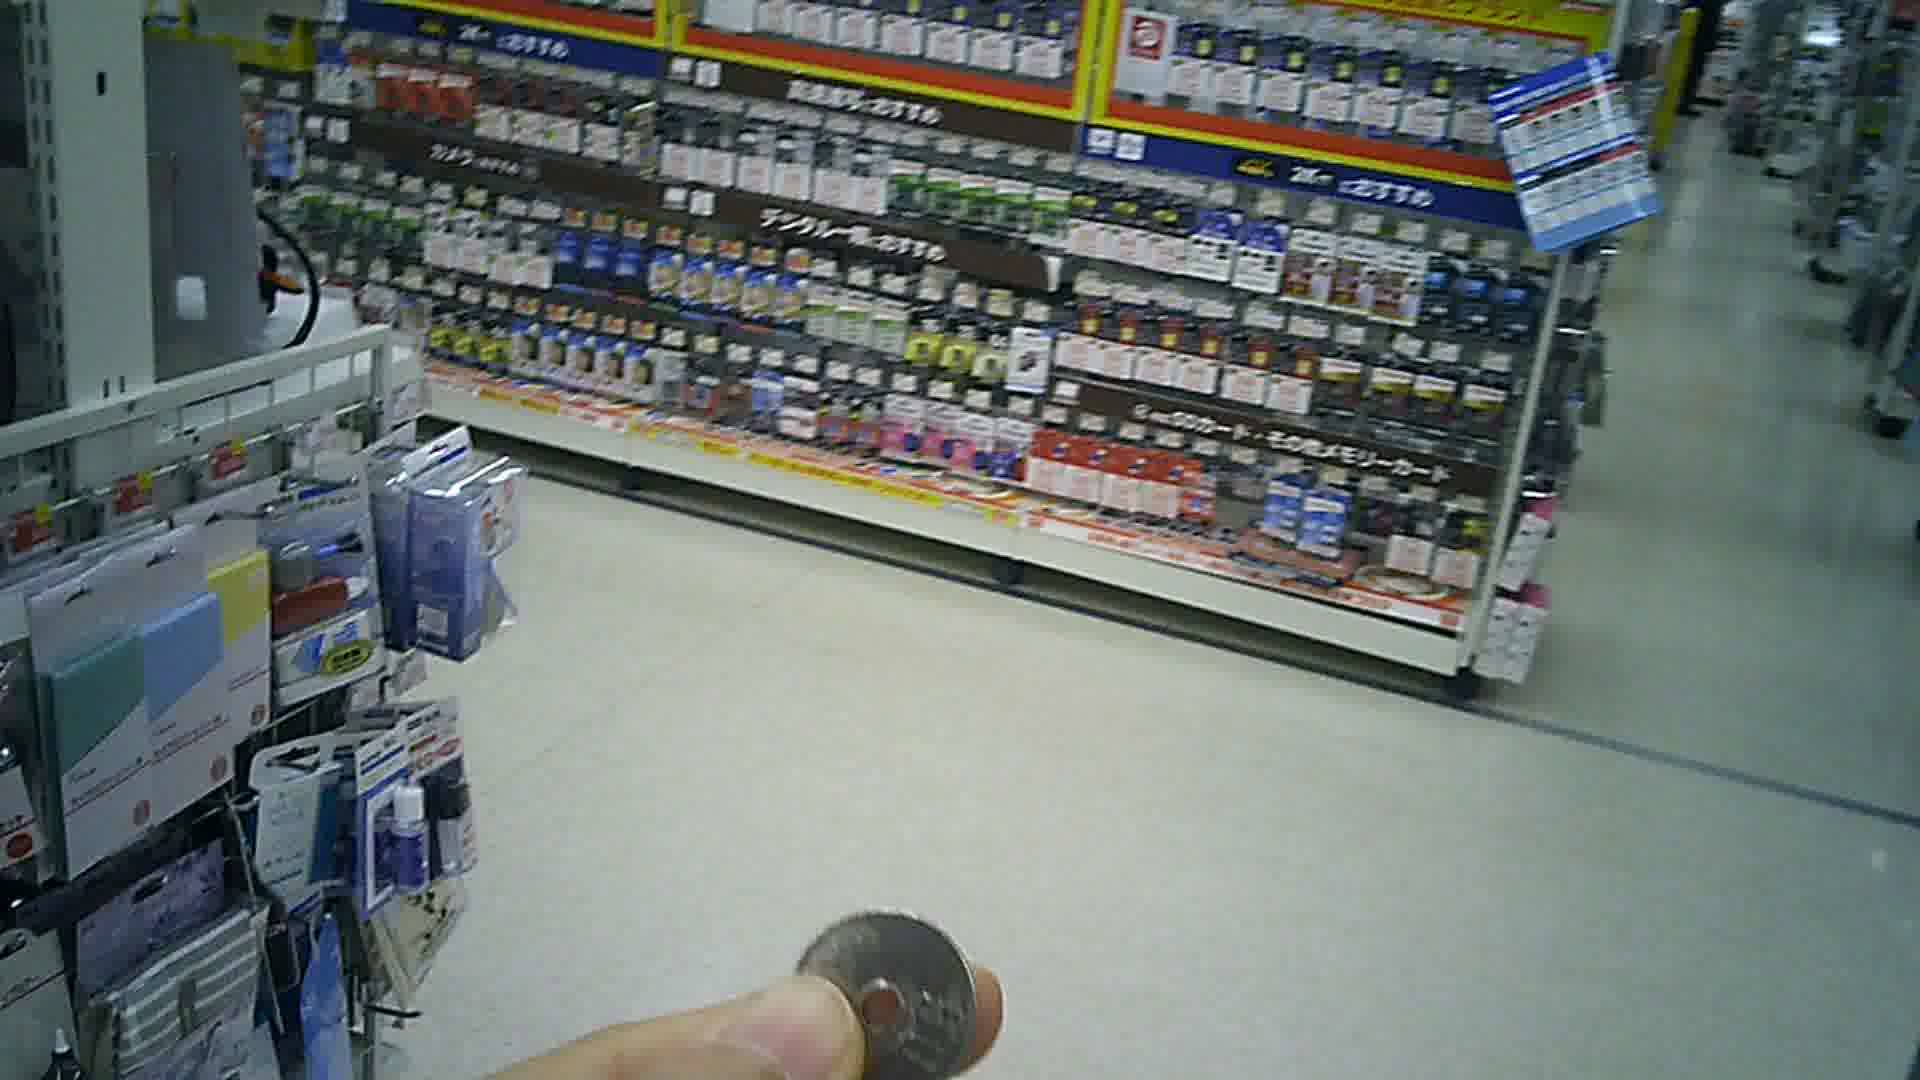50 Yen: (786, 914, 968, 1079)
